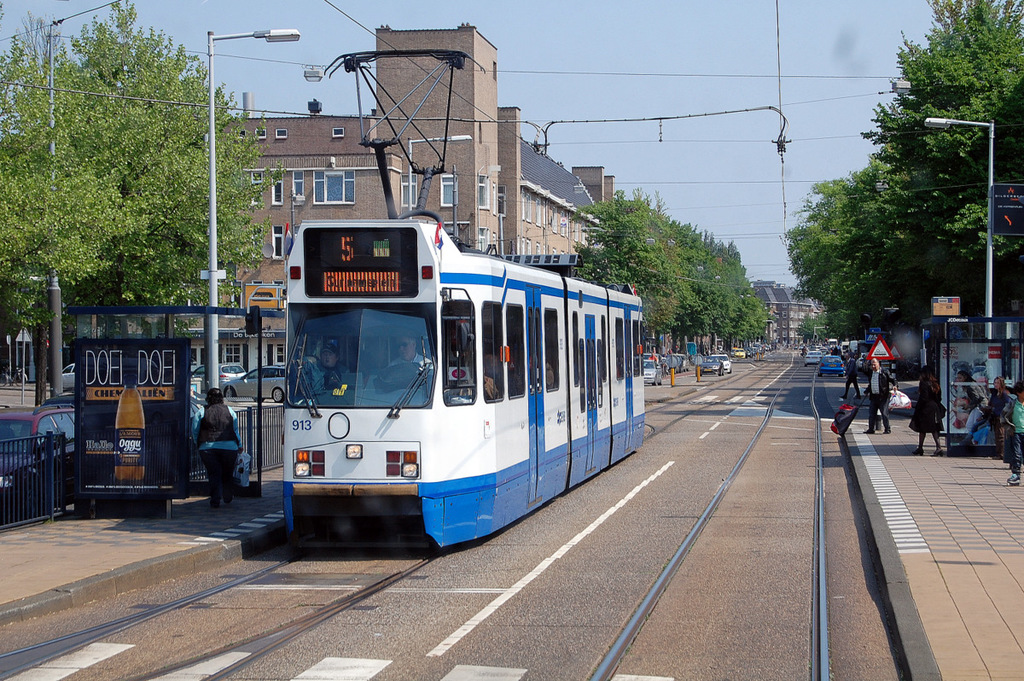train: (273, 47, 657, 550)
